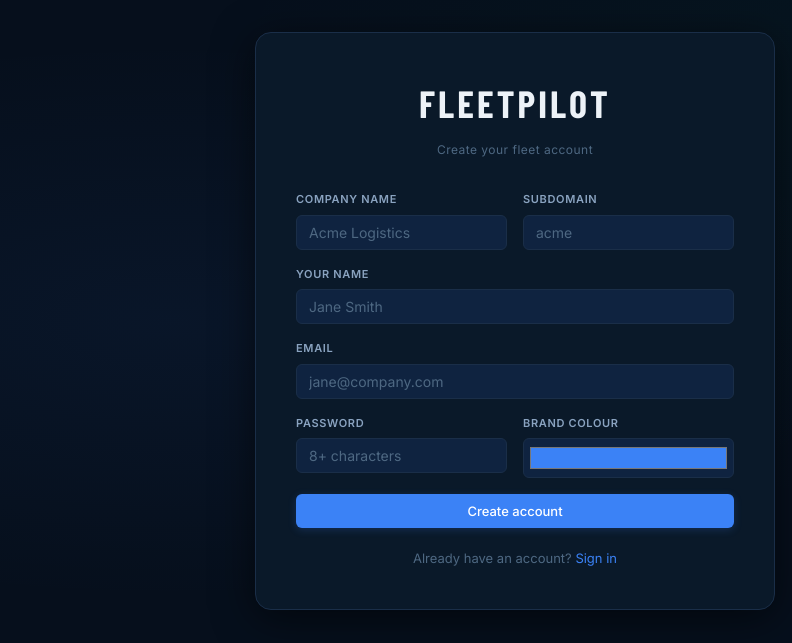
Test case: Register › shows fallback error when server provides no message
The width and height of the screenshot is (792, 643).
Type "My Fleet" into the field with placeholder "Acme Logistics" at (402, 232), box 296,214 -> 507,250
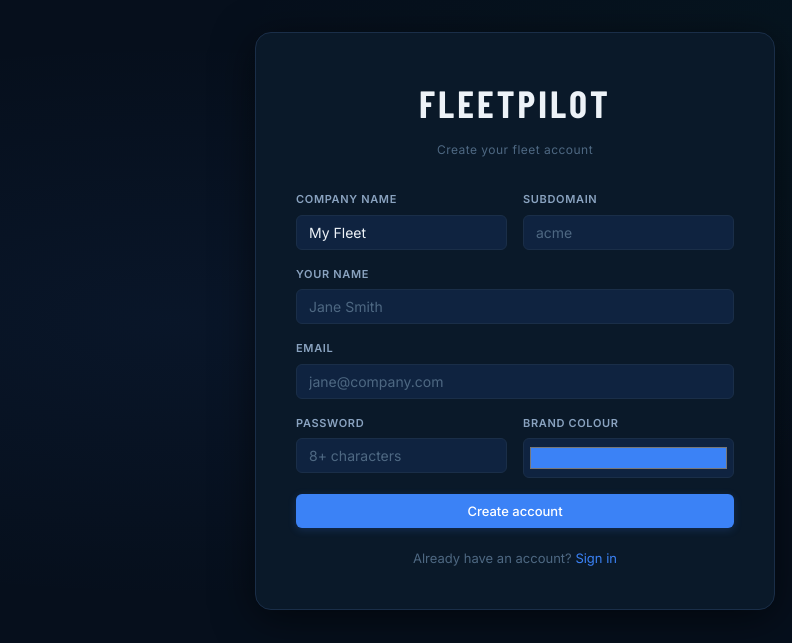
Type "myfleet" into the field with placeholder "acme" at (628, 232), box 523,214 -> 734,250
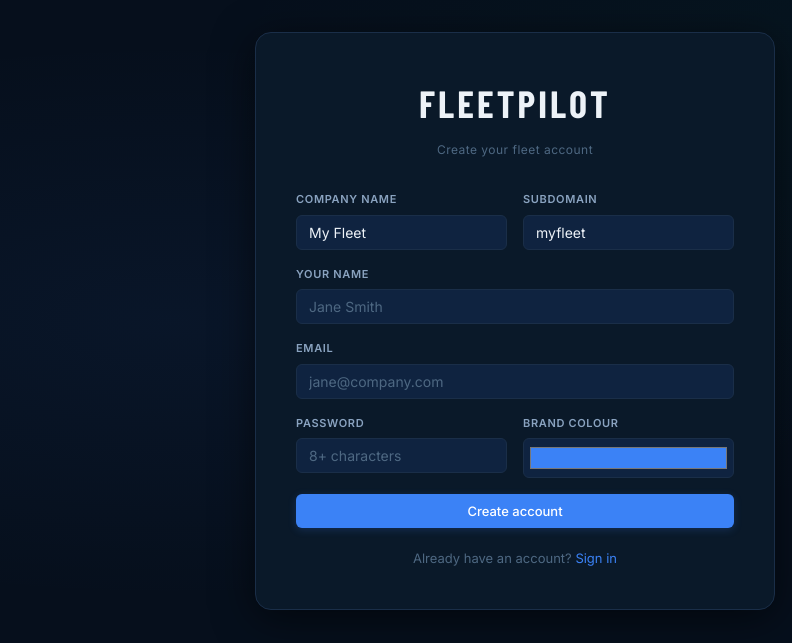
Type "Jane Doe" into the field with placeholder "Jane Smith" at (515, 307), box 296,289 -> 734,324
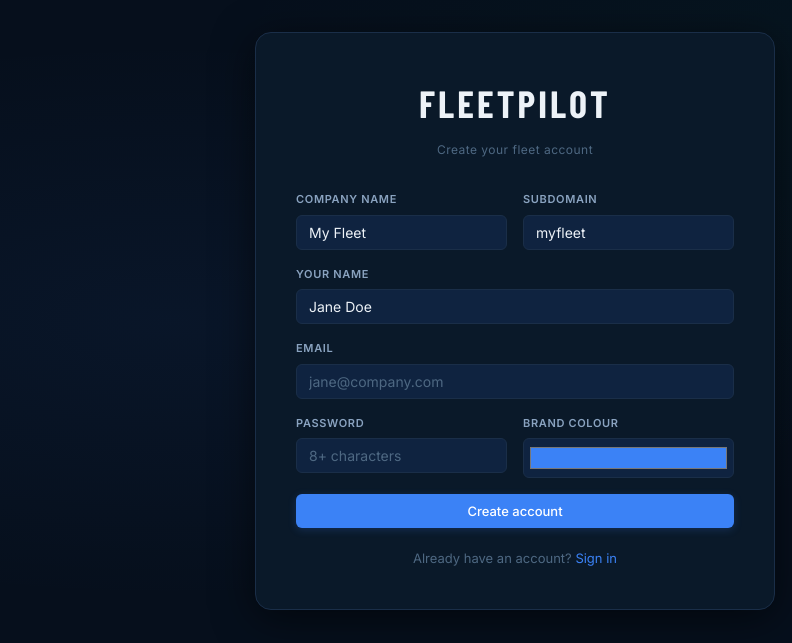
Type "jane@myfleet.com" into the field with placeholder "jane@company.com" at (515, 381), box 296,364 -> 734,399
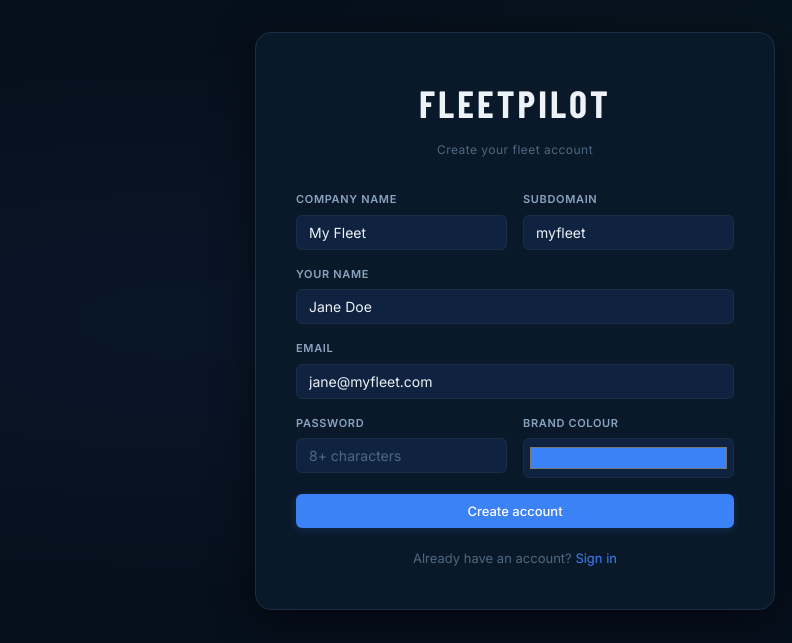
Type "Password1!" into the password field with placeholder "8+ characters" at (402, 456), box 296,438 -> 507,473
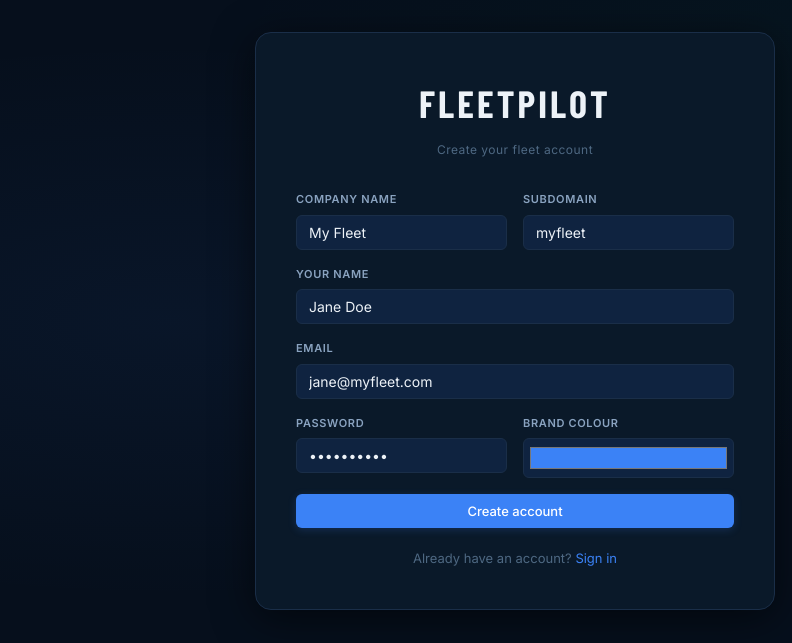
Click the button "Create account" at (515, 511), box 296,494 -> 734,528
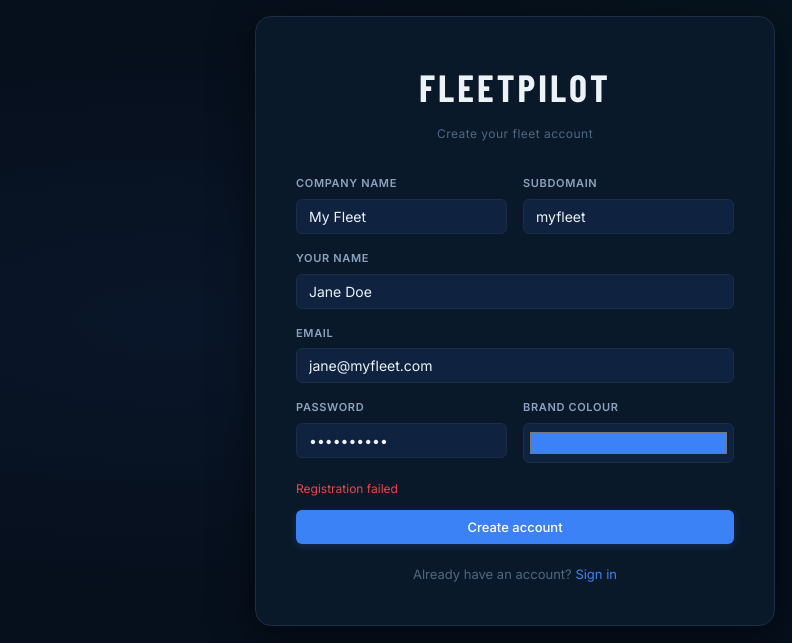
Now the text "Registration failed" is shown, box 296,481 -> 398,496
